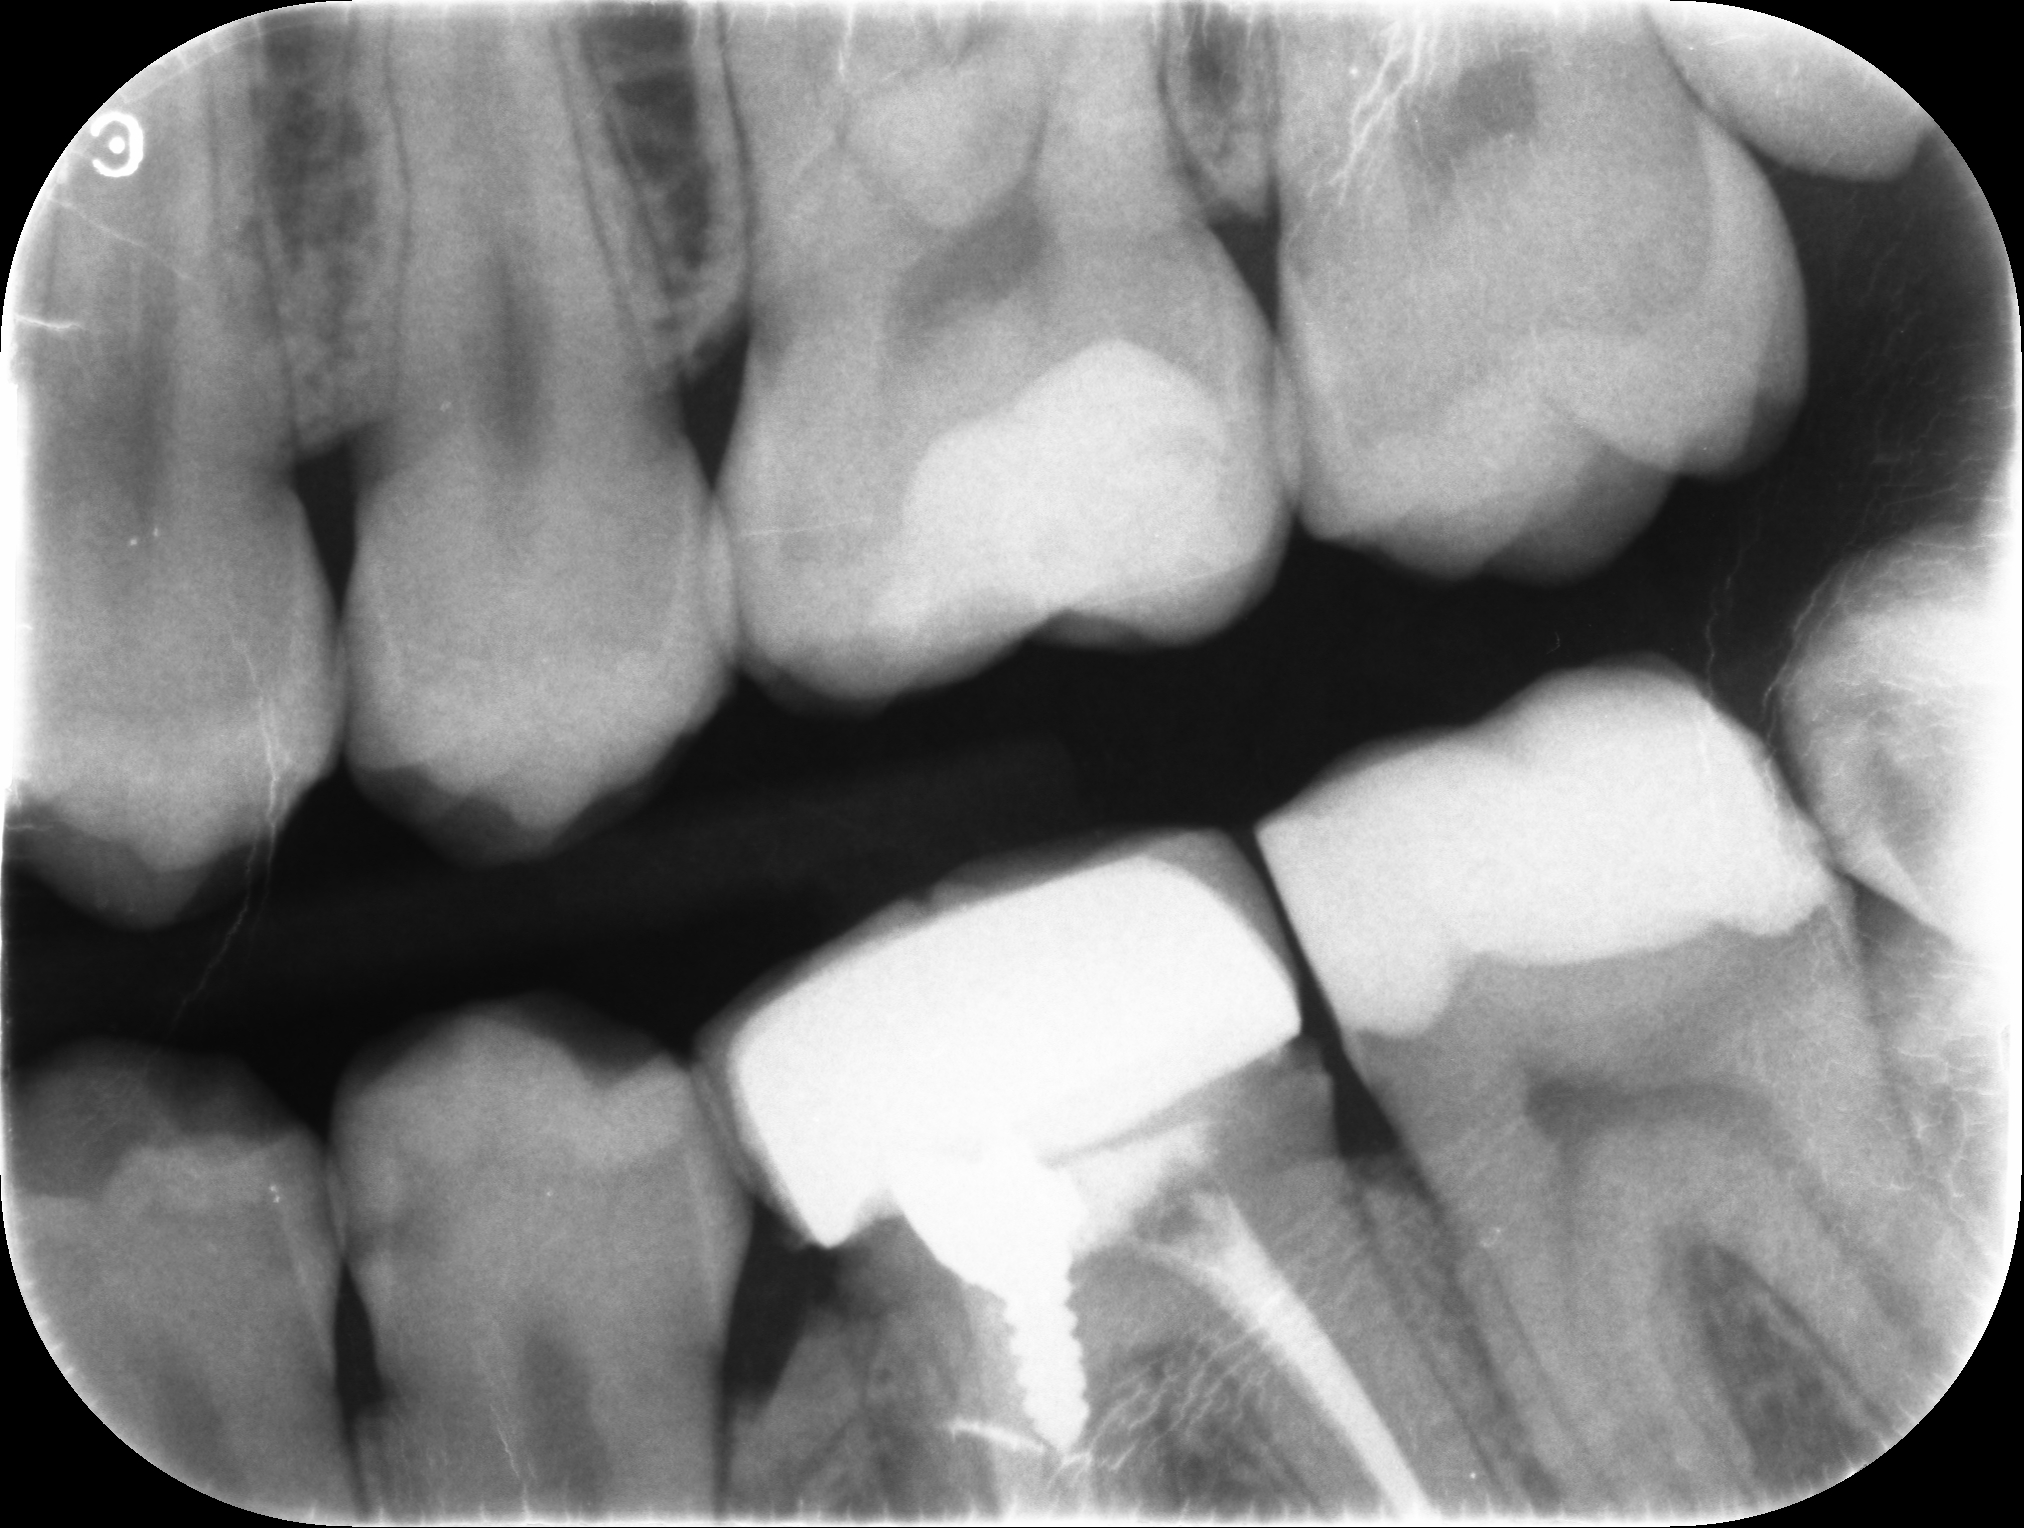dolgu: (774, 847, 1229, 1135), (900, 332, 1287, 645), (212, 764, 526, 1093), (1343, 181, 1668, 435), (1684, 1157, 1924, 1355)
gaga: (1286, 664, 1822, 1050)
orange_pul: (579, 103, 809, 318)
red_pul: (366, 465, 722, 820)
